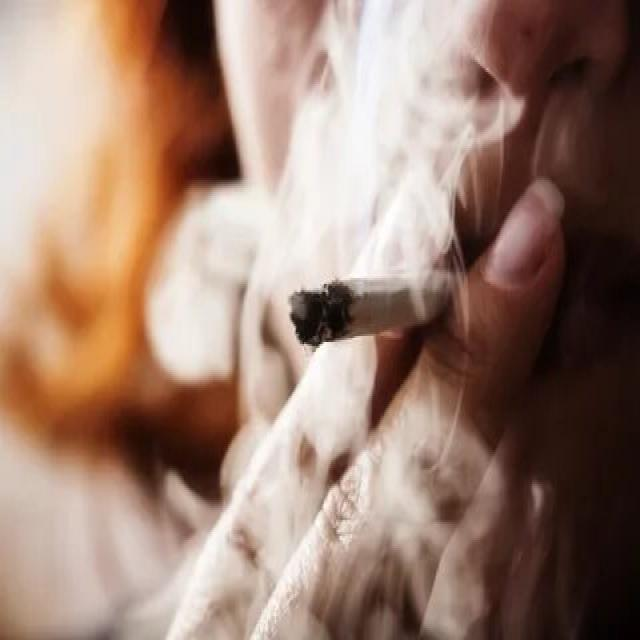cigarette: (284, 252, 481, 352)
